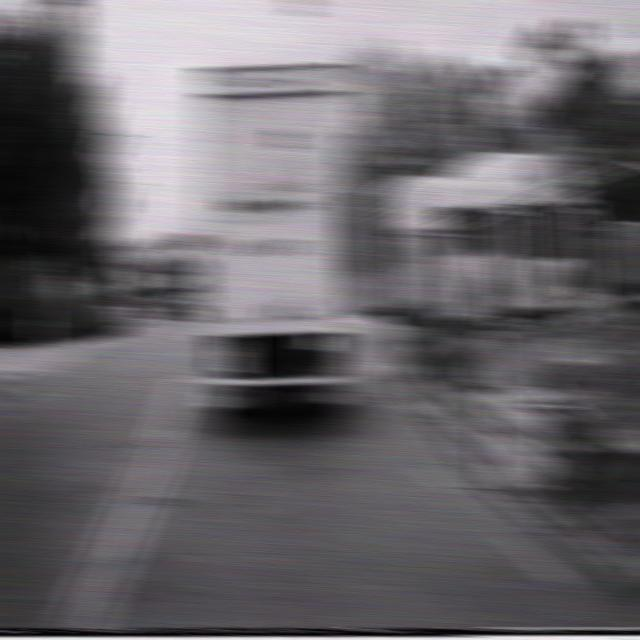stop: (528, 131, 574, 193)
